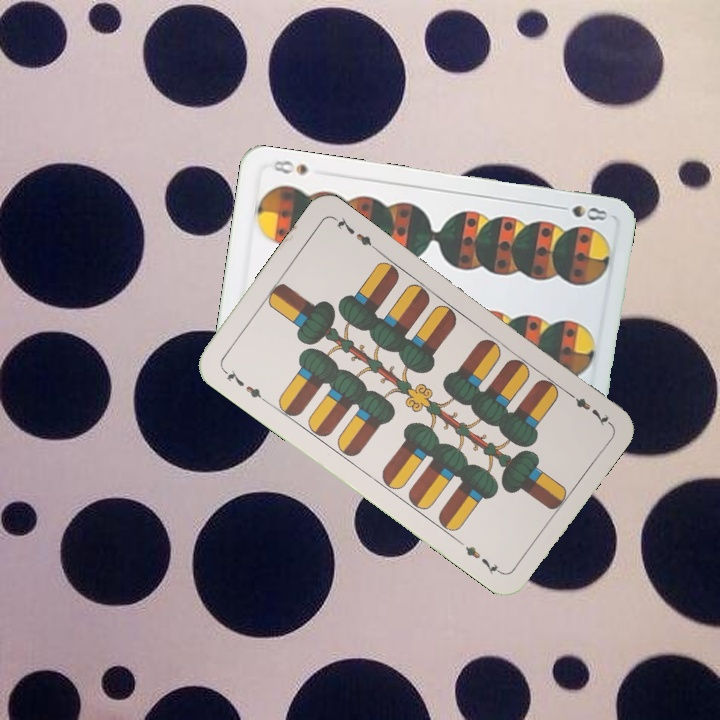E7: (561, 386, 613, 429), (218, 365, 269, 405)
S8: (551, 201, 611, 223)
